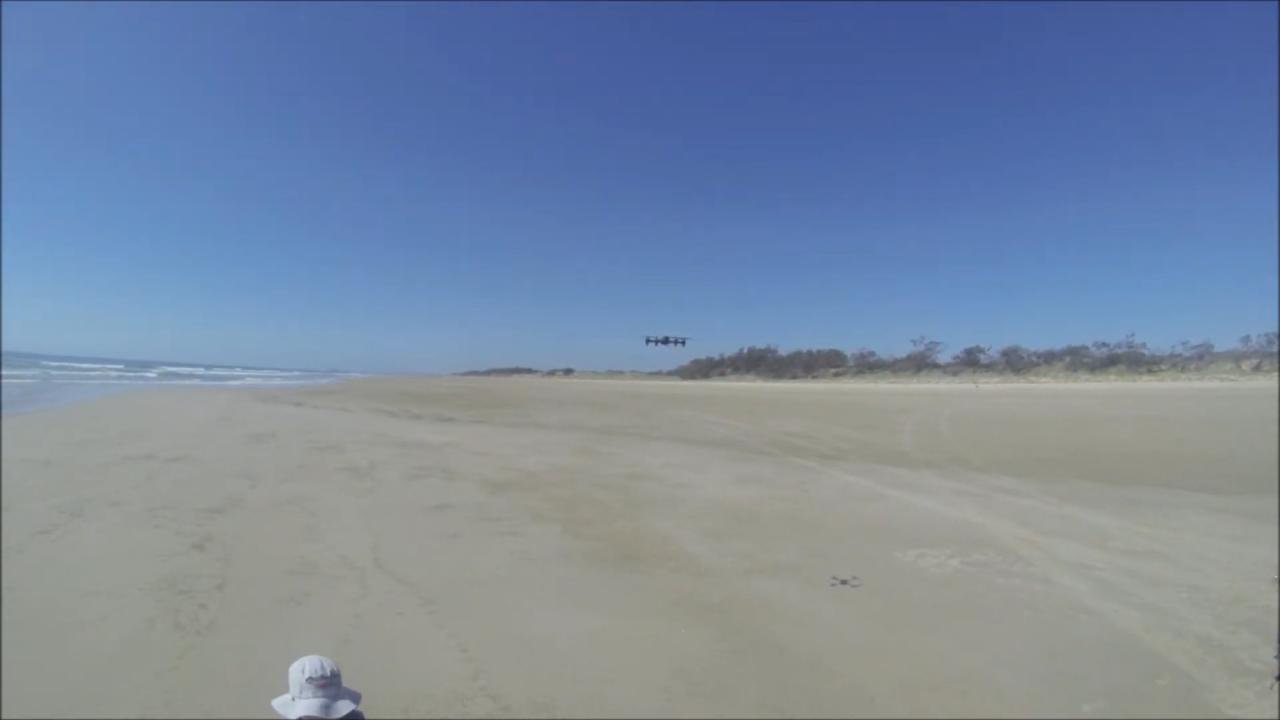Drone: (636, 330, 694, 351)
